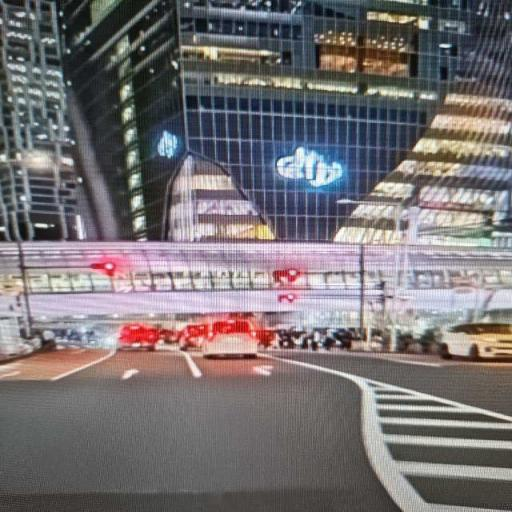car: (440, 323, 511, 360), (202, 319, 259, 357), (118, 324, 159, 350), (179, 324, 209, 351), (160, 329, 179, 343)
lane: (0, 352, 397, 511), (282, 355, 511, 511), (275, 351, 511, 415), (0, 348, 114, 381)
